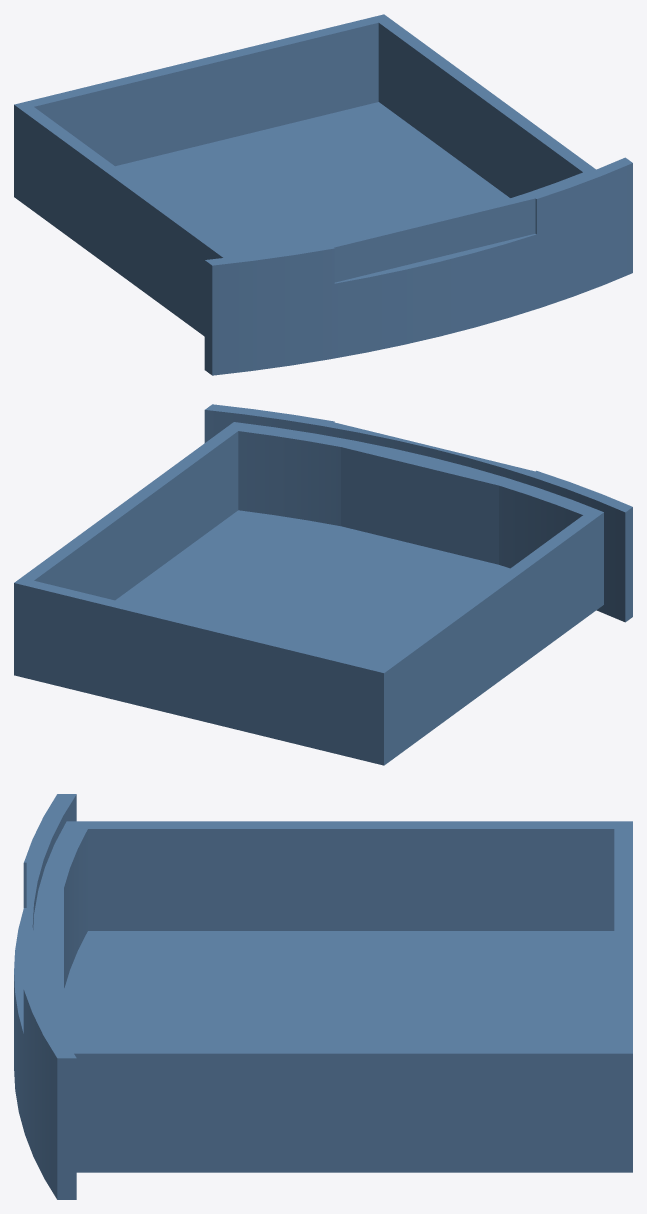
Rendered from esp2025_p36_drawer.glb.
3 views of the same model, one above another, from view 1: azimuth 30°, elevation 25°; view 2: azimuth 150°, elevation 25°; view 3: azimuth 270°, elevation 25° (orthographic). The views are drawn at different scales.
Visible parts, largest first — view 1: dispensing drawer; view 2: dispensing drawer; view 3: dispensing drawer.
Part boxes in pixels (x1,y1,x2,y2): dispensing drawer: (14, 14, 632, 375); dispensing drawer: (14, 404, 632, 765); dispensing drawer: (14, 794, 632, 1199).
Bounding box in the file's own units: 50 × 12.5 × 49.5.
